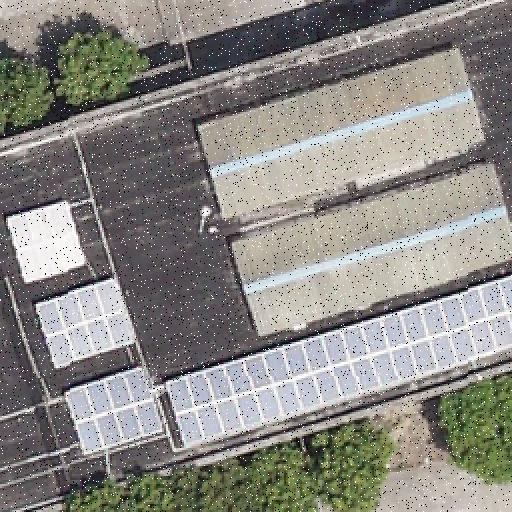solar-panel: (164, 276, 512, 448), (65, 365, 167, 459), (34, 278, 138, 370), (5, 202, 83, 282)
